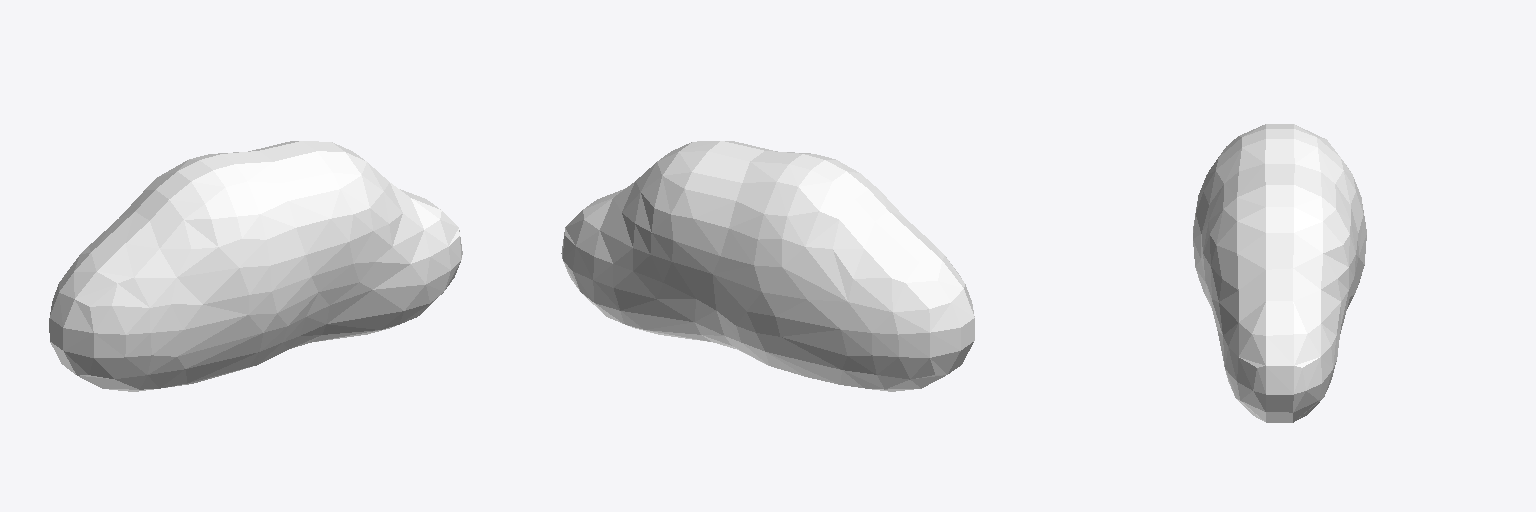
Rendered from cloud3.obj.
3 views of the same model, side by side, from view 1: azimuth 30°, elevation 25°; view 2: azimuth 150°, elevation 25°; view 3: azimuth 270°, elevation 25° (orthographic).
Parts seen in each view (by area): view 1: Cloud; view 2: Cloud; view 3: Cloud.
Part boxes in pixels (x1,y1,x2,y2): Cloud: (49, 141, 462, 391); Cloud: (561, 141, 974, 391); Cloud: (1193, 124, 1366, 422).
Size of the model in its own units: 7.26 by 3.61 by 2.74.